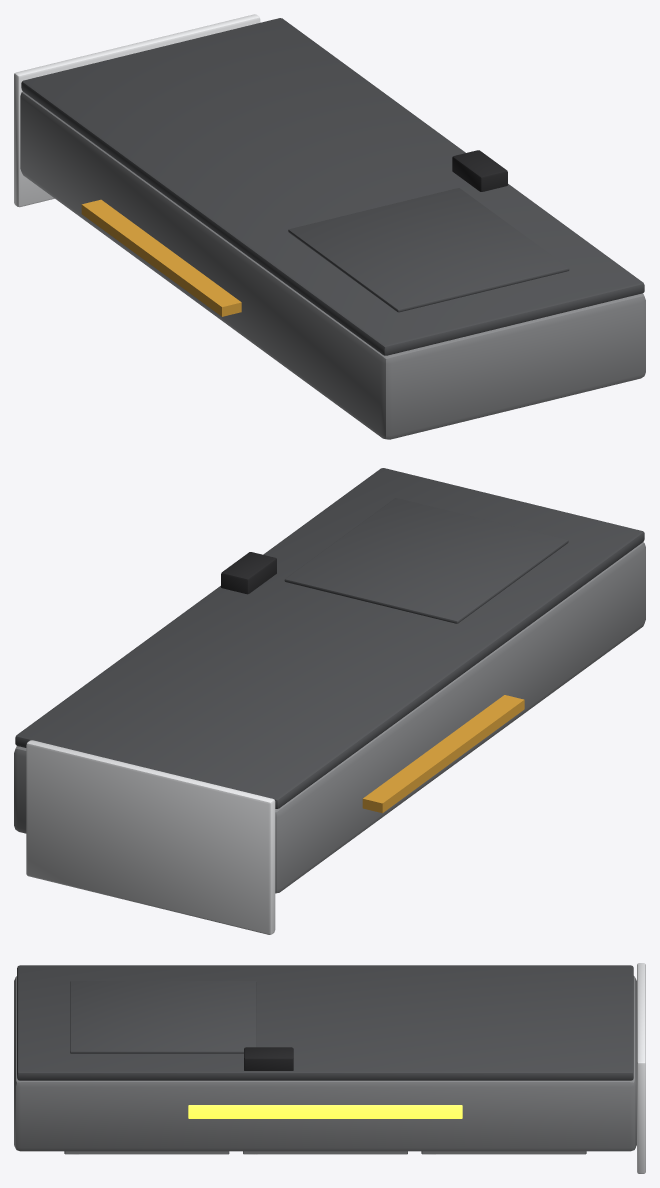
File: gpu_rtx5070ti.glb
3 renders of one model, top to bottom at view 1: azimuth 30°, elevation 25°; view 2: azimuth 150°, elevation 25°; view 3: azimuth 270°, elevation 25°, orthographic. The views are drawn at different scales.
Parts seen in each view (by area): view 1: RTX5070Ti_Body; view 2: RTX5070Ti_Body; view 3: RTX5070Ti_Body, RGB_RTX5070Ti_Bar, RTX5070Ti_F0_Frame, RTX5070Ti_F2_Frame, RTX5070Ti_F1_Frame.
Boxes of the visible parts, bbox=[...] form: RTX5070Ti_Body: bbox=[14, 14, 645, 439]; RTX5070Ti_Body: bbox=[14, 468, 645, 934]; RTX5070Ti_Body: bbox=[14, 963, 645, 1173]; RGB_RTX5070Ti_Bar: bbox=[188, 1105, 462, 1118]; RTX5070Ti_F0_Frame: bbox=[64, 1151, 229, 1154]; RTX5070Ti_F2_Frame: bbox=[421, 1151, 586, 1154]; RTX5070Ti_F1_Frame: bbox=[243, 1151, 407, 1154].
Size of the model in its own units: 1.25 by 0.5986 by 2.79.
